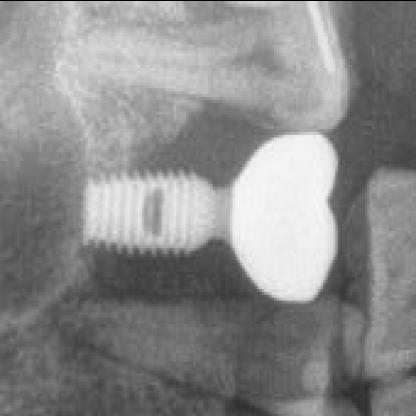Bicon: (74, 152, 200, 268)
